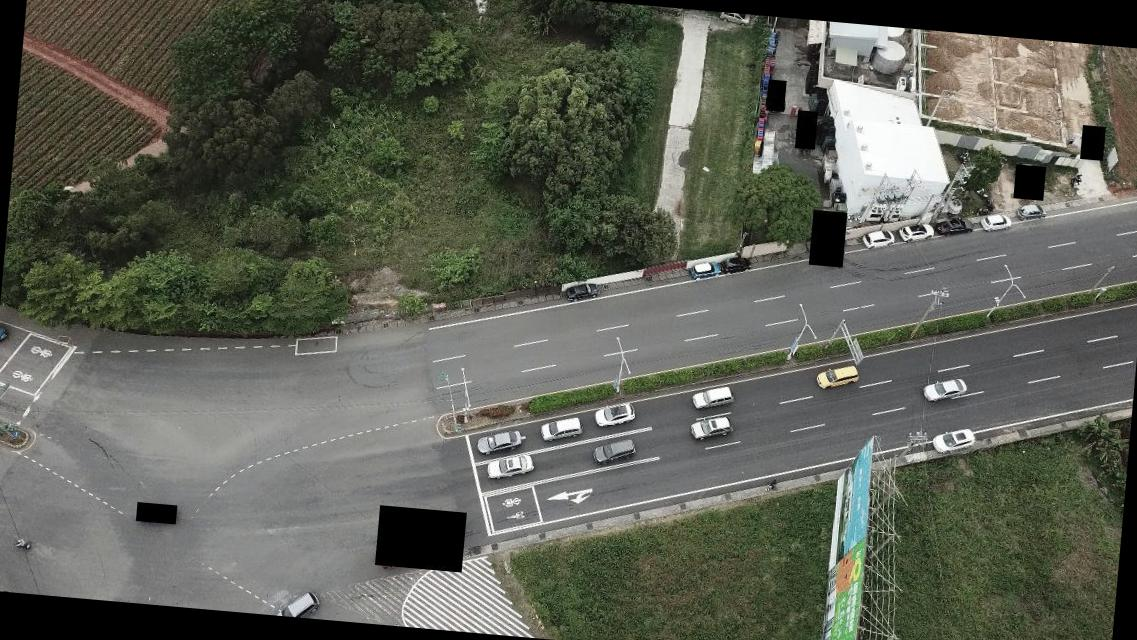vehicle: (486, 449, 535, 482), (473, 427, 522, 458), (593, 398, 635, 430), (689, 413, 733, 443), (592, 436, 636, 466), (273, 590, 320, 618), (921, 376, 966, 405), (815, 362, 858, 392), (540, 413, 584, 442), (691, 383, 734, 412), (931, 426, 974, 454), (898, 222, 936, 246), (936, 215, 974, 238), (564, 280, 600, 304), (980, 212, 1015, 235), (861, 228, 895, 251), (720, 253, 752, 276), (689, 259, 721, 282), (1016, 203, 1046, 222)
